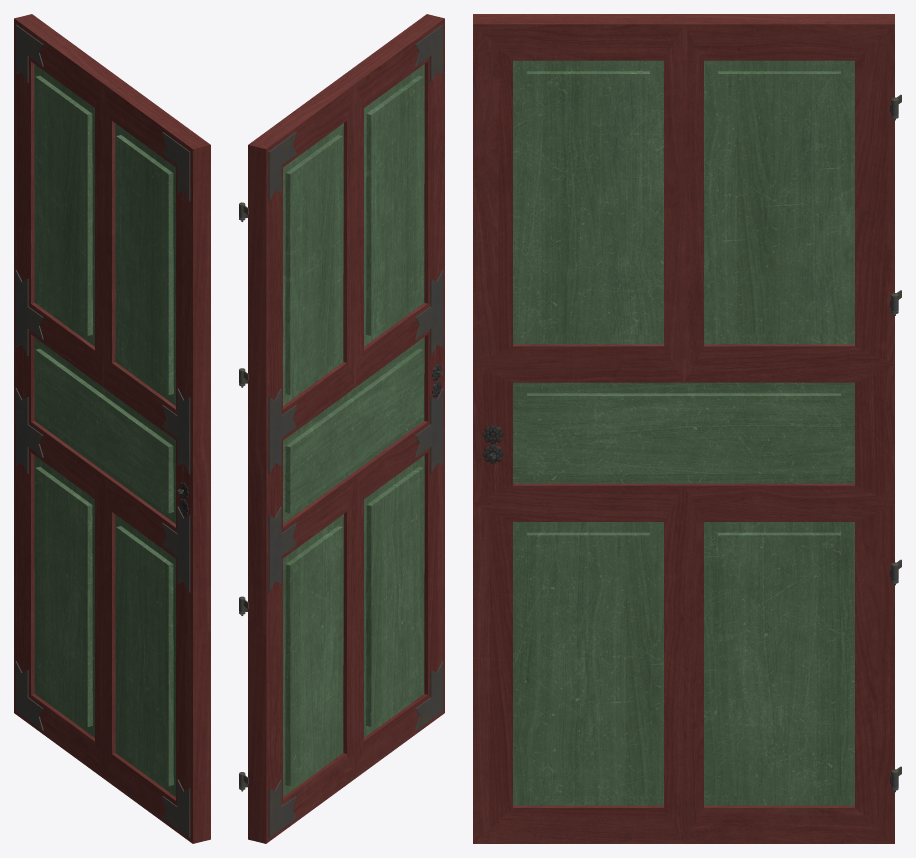
The model's file is SM_Door08B.fbx.
3 views of the same model, side by side, from view 1: azimuth 30°, elevation 25°; view 2: azimuth 150°, elevation 25°; view 3: azimuth 270°, elevation 25° (orthographic). The views are drawn at different scales.
Parts seen in each view (by area): view 1: SM_Door08B; view 2: SM_Door08B; view 3: SM_Door08B.
Part boxes in pixels (<box>): SM_Door08B: <box>14,14,210,843</box>; SM_Door08B: <box>239,14,444,843</box>; SM_Door08B: <box>473,14,901,843</box>.
Size of the model in its own units: 10.24 by 96.73 by 204.
